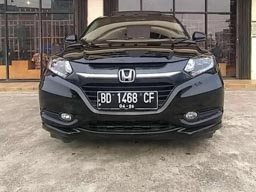plat: (97, 91, 157, 103)
